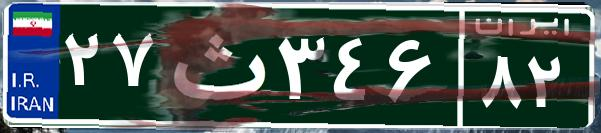2: (57, 26, 110, 107), (525, 38, 570, 115)
3: (273, 28, 330, 110)
4: (330, 28, 385, 110)
6: (385, 28, 445, 110)
7: (110, 28, 158, 105)
8: (475, 38, 525, 113)
ث: (158, 15, 273, 115)
